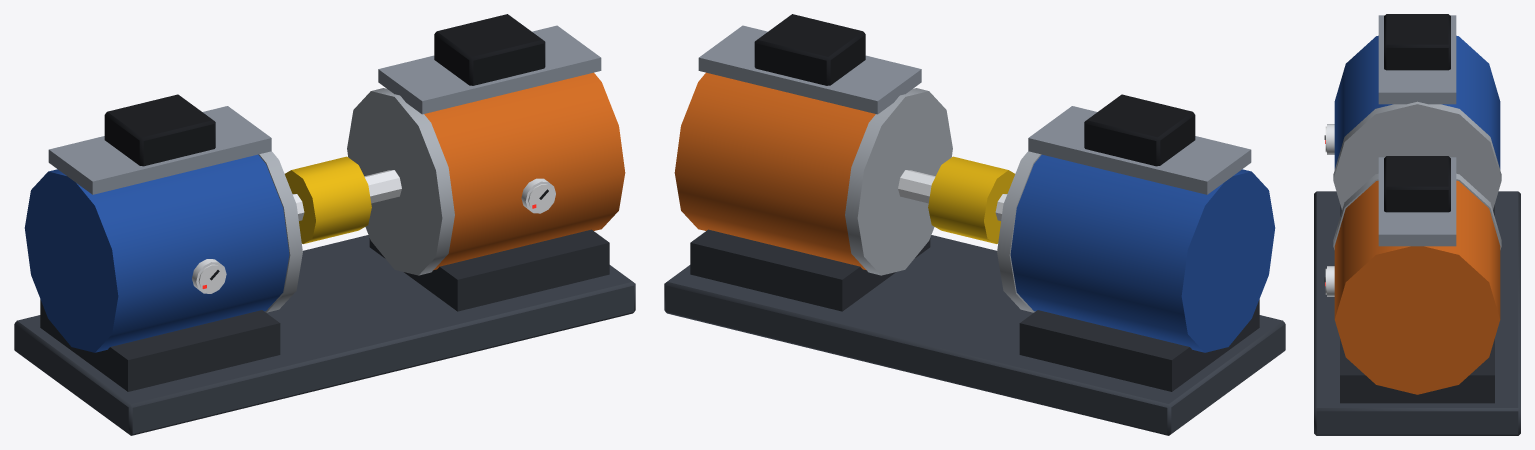
Rendered from generator_motor_generator_set.glb.
The picture shows the model from 3 angles, left to right: view 1: azimuth 30°, elevation 25°; view 2: azimuth 150°, elevation 25°; view 3: azimuth 270°, elevation 25°; orthographic projection. The views are drawn at different scales.
Parts seen in each view (by area): view 1: generator_motor_generator_set; view 2: generator_motor_generator_set; view 3: generator_motor_generator_set.
Boxes of the visible parts, box(x1,y1,x2,y2) form: generator_motor_generator_set: box(14, 14, 635, 435); generator_motor_generator_set: box(664, 14, 1285, 435); generator_motor_generator_set: box(1314, 14, 1520, 435).
Bounding box in the file's own units: 2.01 × 0.97 × 0.8.
